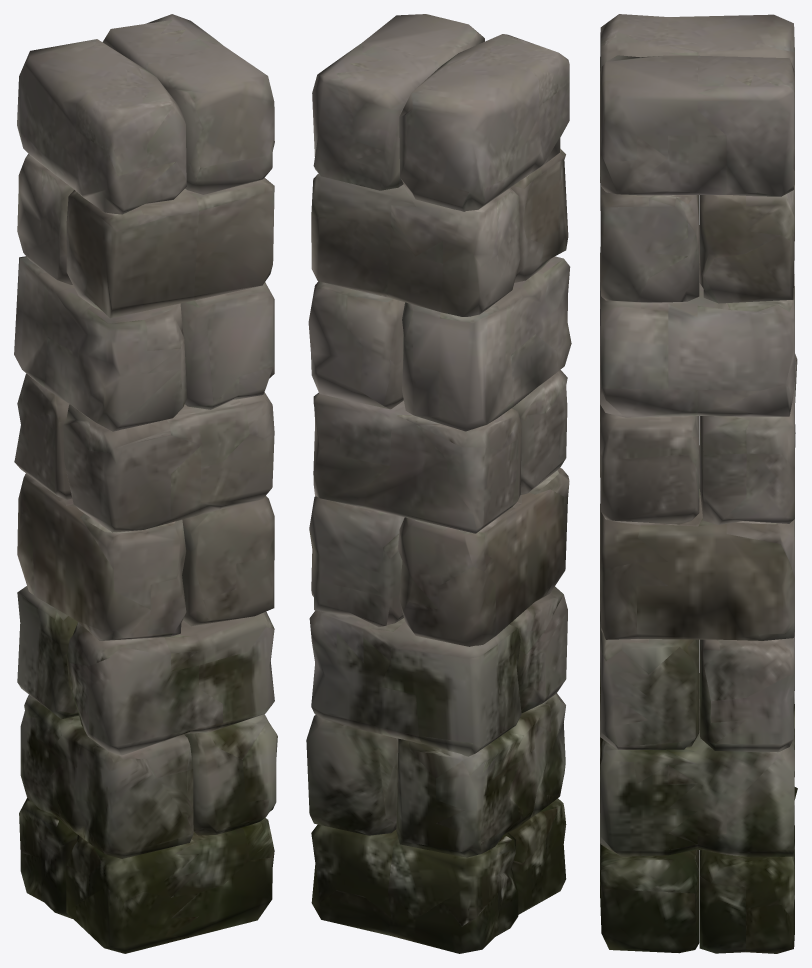
Rendered from k-pillar.glb.
3 renders of one model, left to right at view 1: azimuth 30°, elevation 25°; view 2: azimuth 150°, elevation 25°; view 3: azimuth 270°, elevation 25°, orthographic. The views are drawn at different scales.
Size of the model in its own units: 0.2066 by 0.9507 by 0.1978.
1 material, 1 textured.
